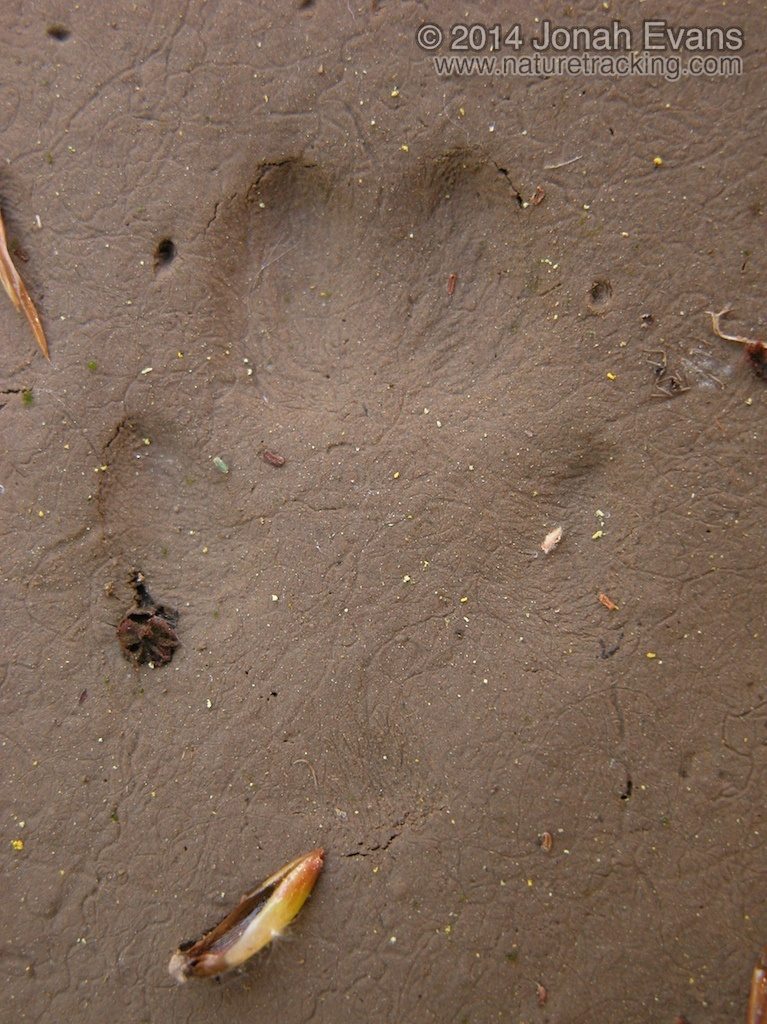fox: (57, 104, 653, 898)
